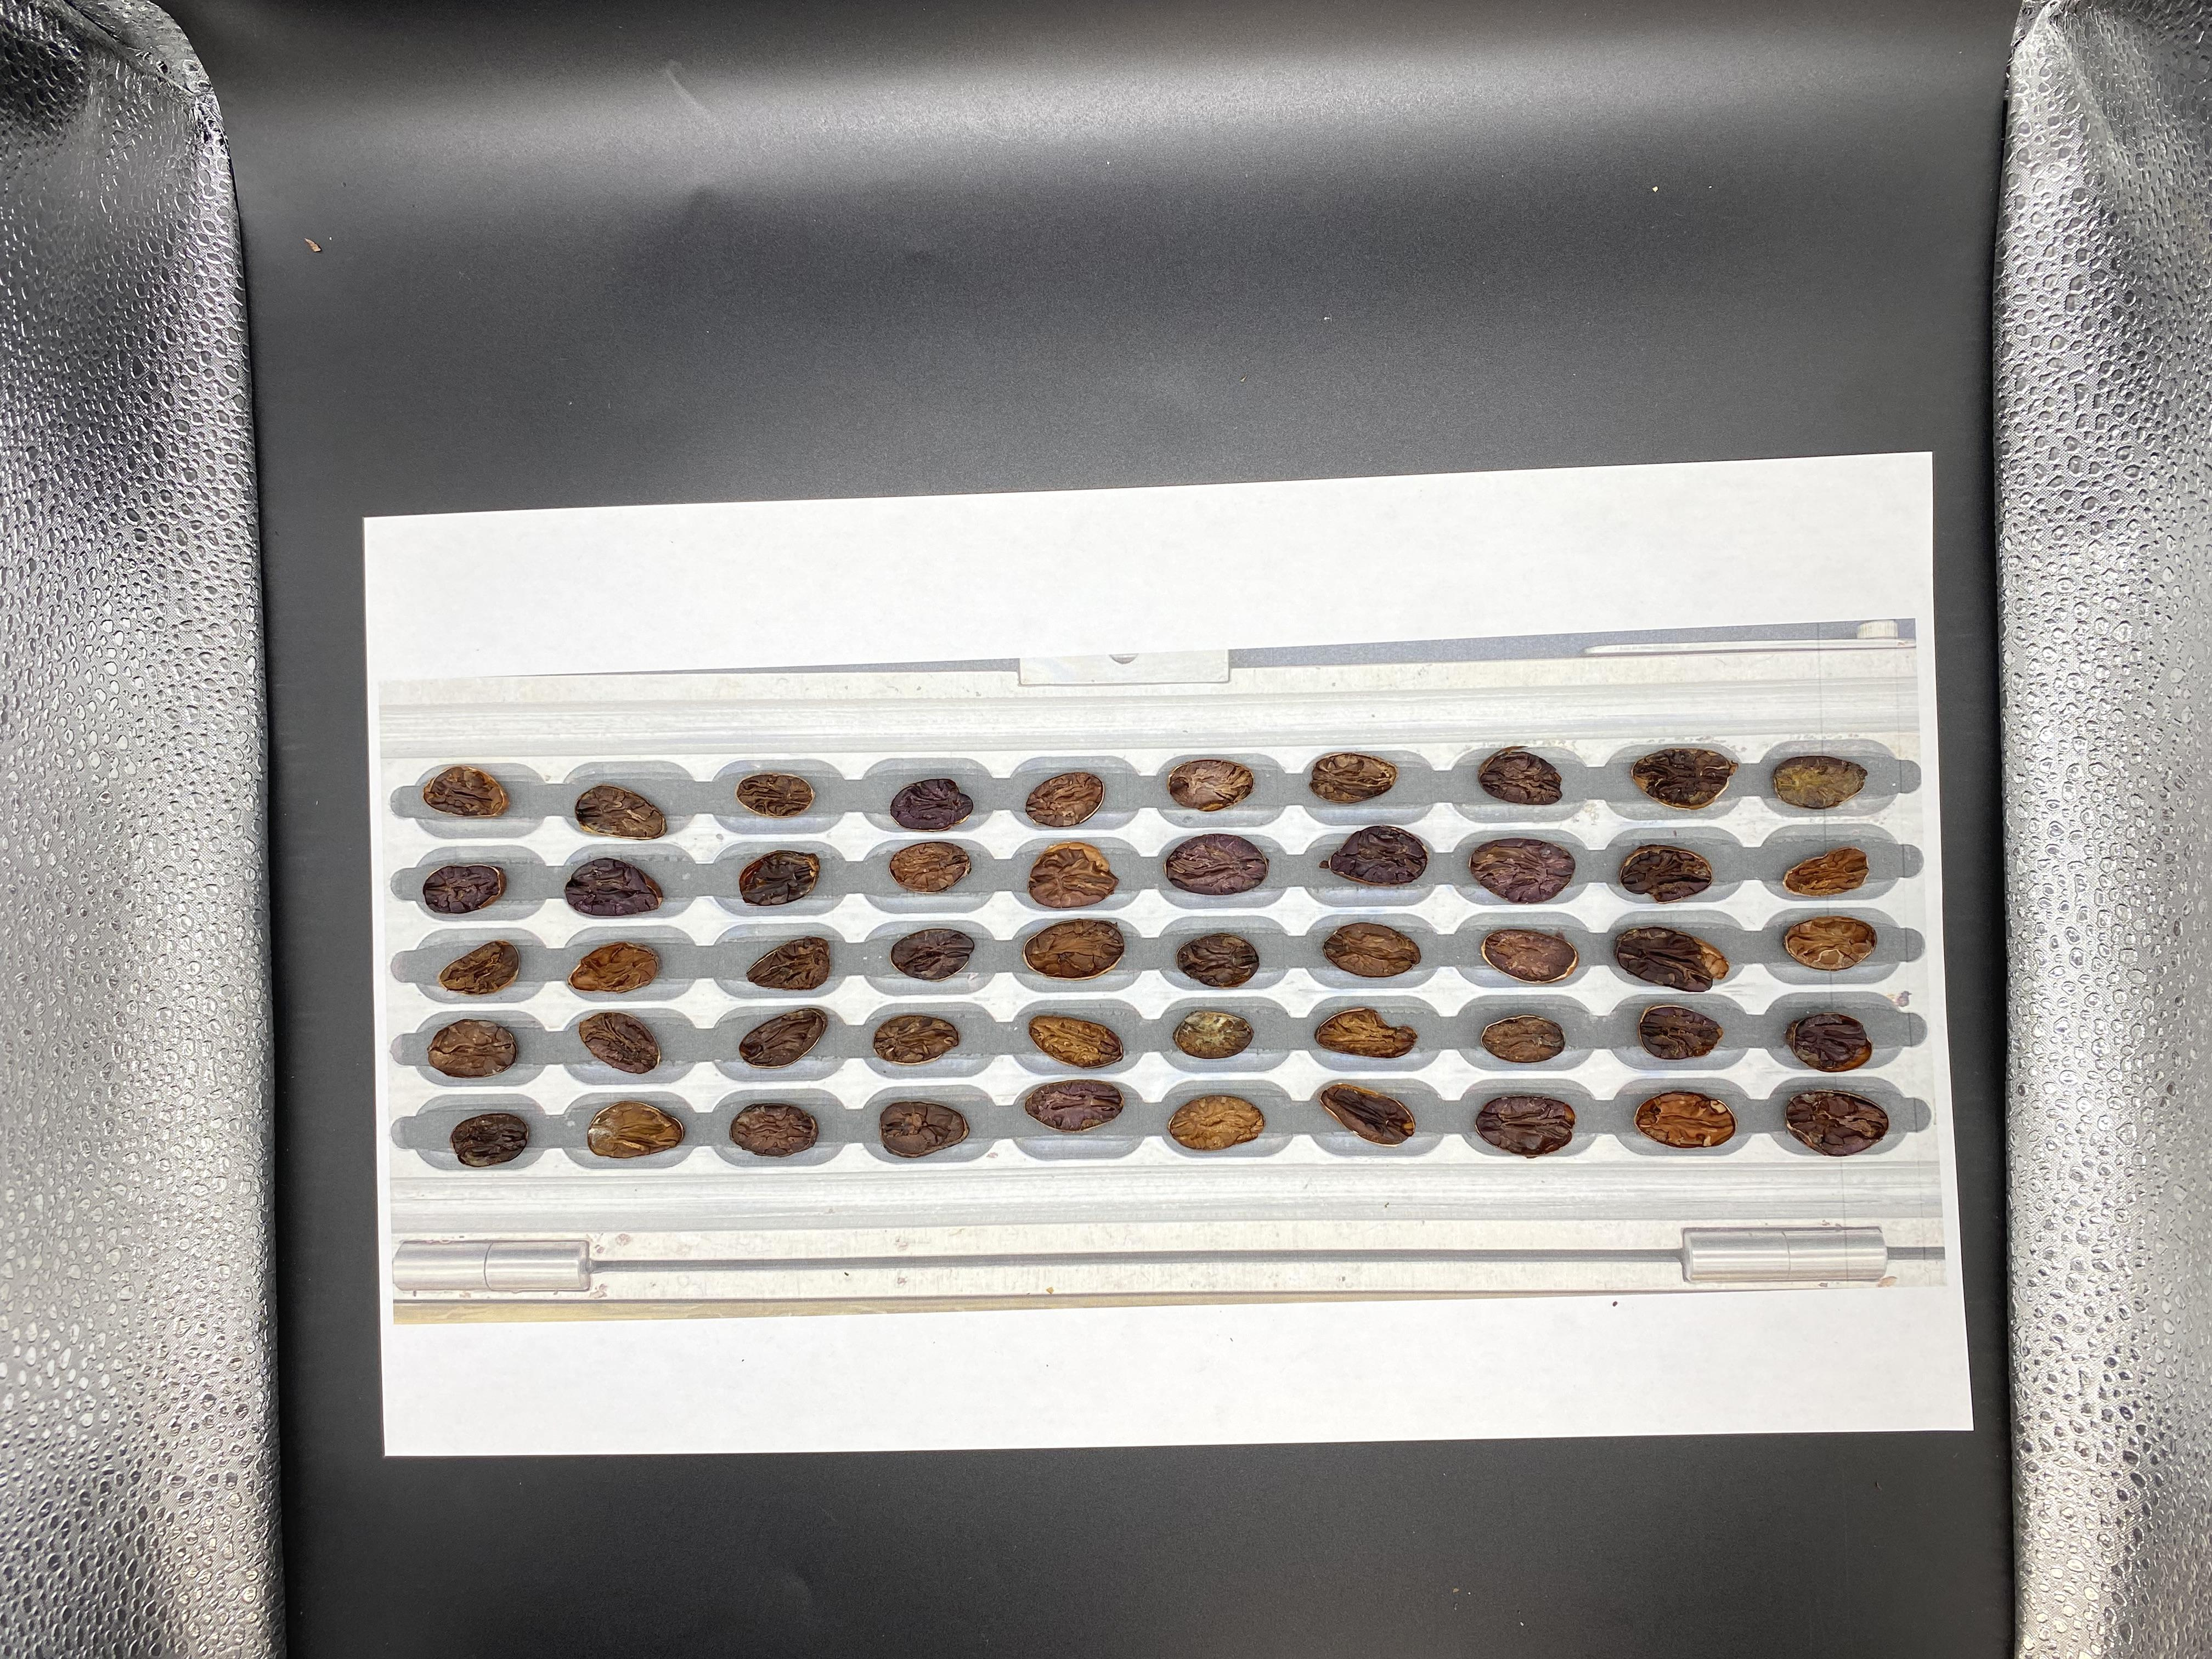Brown - G1: (1609, 425, 1660, 467), (1919, 552, 1975, 587), (1750, 380, 1803, 413), (1993, 429, 2043, 462), (1529, 512, 1581, 544)
Brown - G2: (1989, 460, 2048, 497), (1467, 471, 1519, 509), (1609, 511, 1663, 547), (1299, 383, 1352, 420), (1376, 474, 1430, 509), (1756, 509, 1811, 542), (1608, 387, 1655, 425)
Brown - G3: (1604, 464, 1665, 502), (1378, 511, 1430, 552), (1305, 512, 1357, 554), (1676, 378, 1730, 418), (1379, 392, 1430, 434), (1679, 554, 1737, 589), (1759, 465, 1813, 500), (1456, 558, 1510, 591), (1310, 474, 1359, 509), (1540, 427, 1585, 457)
Brown - G4: (1839, 512, 1888, 544)
Insect-damaged: (1986, 382, 2040, 413)
Mouldy: (1385, 556, 1440, 594), (1683, 512, 1728, 542)
Partly Purple - G1: (1907, 427, 1963, 460), (1919, 509, 1968, 542)
Partly Purple - G2: (1832, 425, 1893, 462), (1836, 552, 1893, 591)
Partly Purple - G3: (1604, 545, 1663, 579)
Partly Purple - G4: (1839, 469, 1893, 504)
Total Purple - G3: (1677, 420, 1740, 460), (1759, 416, 1818, 453), (1538, 390, 1588, 425), (1299, 434, 1350, 469)
Very Dark Brown - G1: (1907, 469, 1972, 509), (1916, 376, 1975, 415), (1994, 512, 2047, 549), (1460, 389, 1508, 420)
Very Dark Brown - G2: (1991, 549, 2054, 589), (1754, 545, 1815, 586), (1461, 425, 1512, 467), (1371, 434, 1430, 469), (1313, 559, 1360, 599), (1839, 376, 1886, 413), (1684, 469, 1731, 504)
Very Dark Brown - G3: (1460, 511, 1515, 547), (1529, 556, 1587, 591), (1536, 469, 1588, 502)
